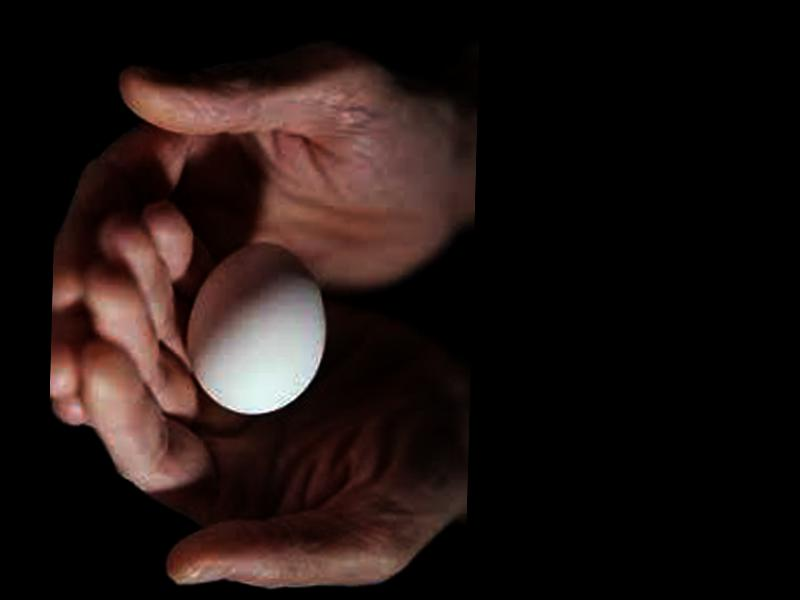Eggs: (186, 242, 329, 417)
